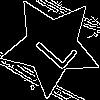L: (26, 21, 79, 72)
